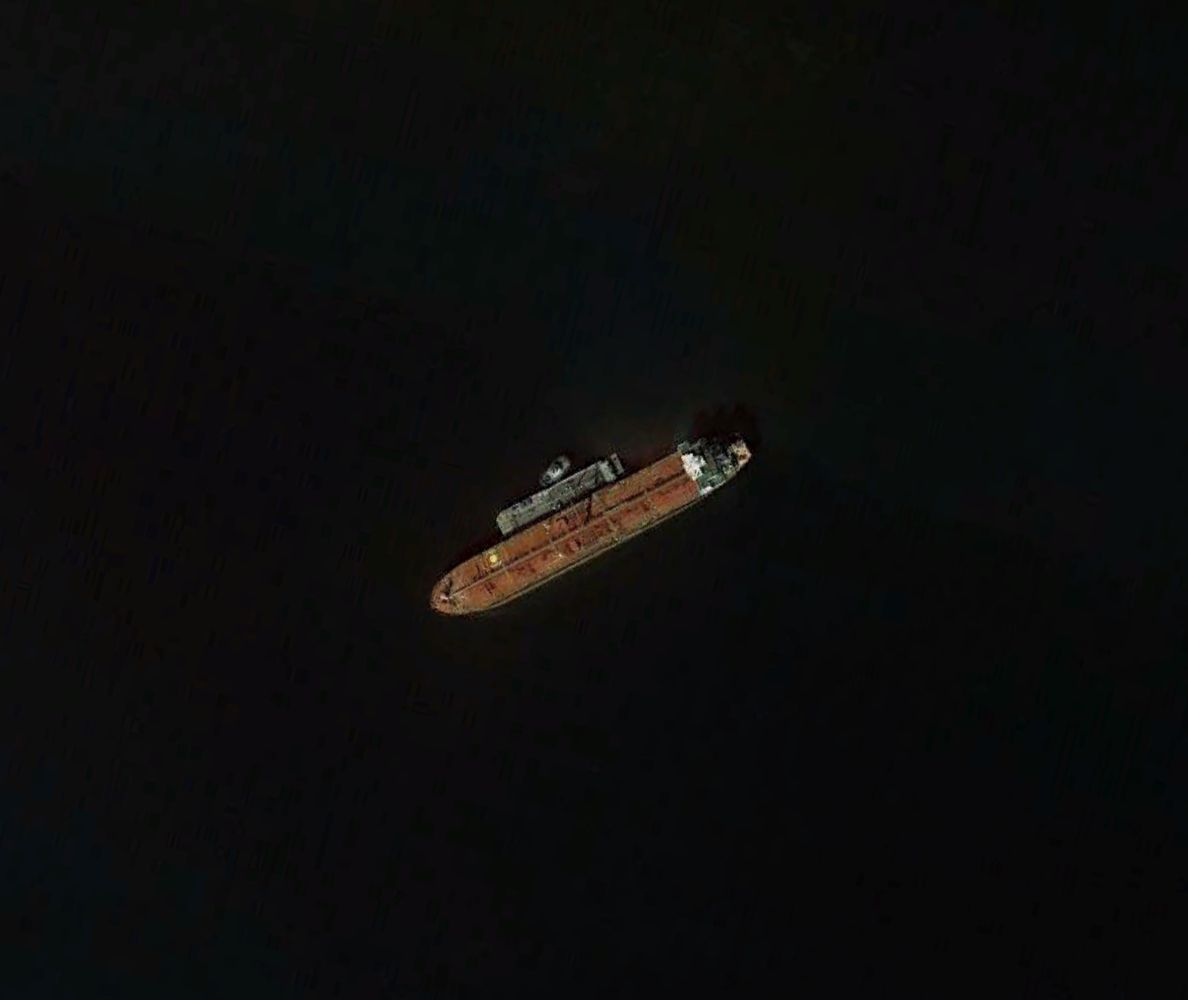boat: (426, 427, 755, 621)
